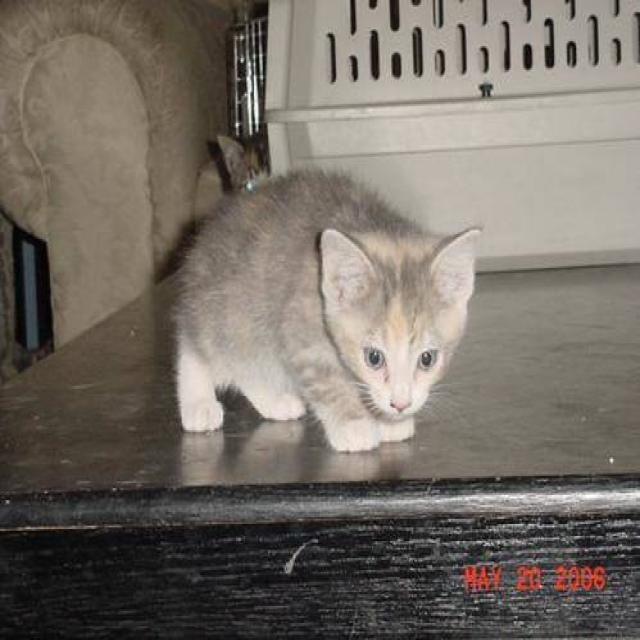cat: (168, 162, 481, 454)
